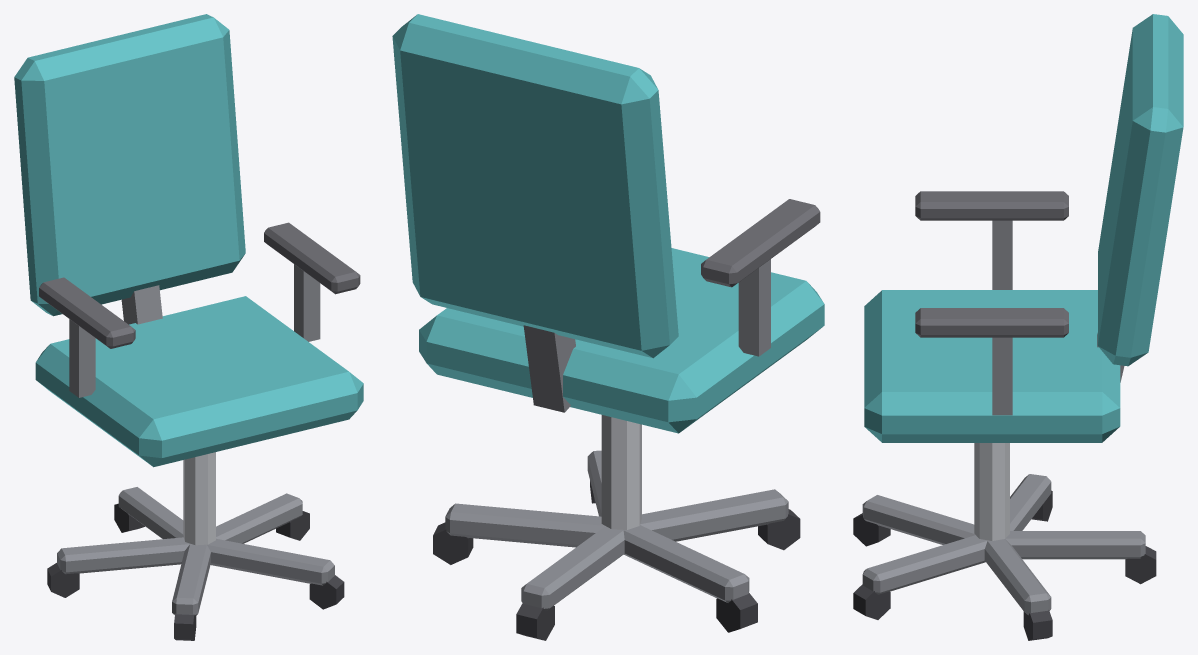
Rendered from prop_chair_desk_01.glb.
3 views of the same model, side by side, from view 1: azimuth 30°, elevation 25°; view 2: azimuth 150°, elevation 25°; view 3: azimuth 270°, elevation 25° (orthographic). The views are drawn at different scales.
Visible parts, largest first — view 1: prop_chair_desk_01_body; view 2: prop_chair_desk_01_body; view 3: prop_chair_desk_01_body.
Boxes of the visible parts, bbox=[...] form: prop_chair_desk_01_body: bbox=[14, 14, 363, 640]; prop_chair_desk_01_body: bbox=[392, 14, 824, 640]; prop_chair_desk_01_body: bbox=[853, 14, 1183, 640].
Bounding box in the file's own units: 0.6216 × 1.12 × 0.6445.
